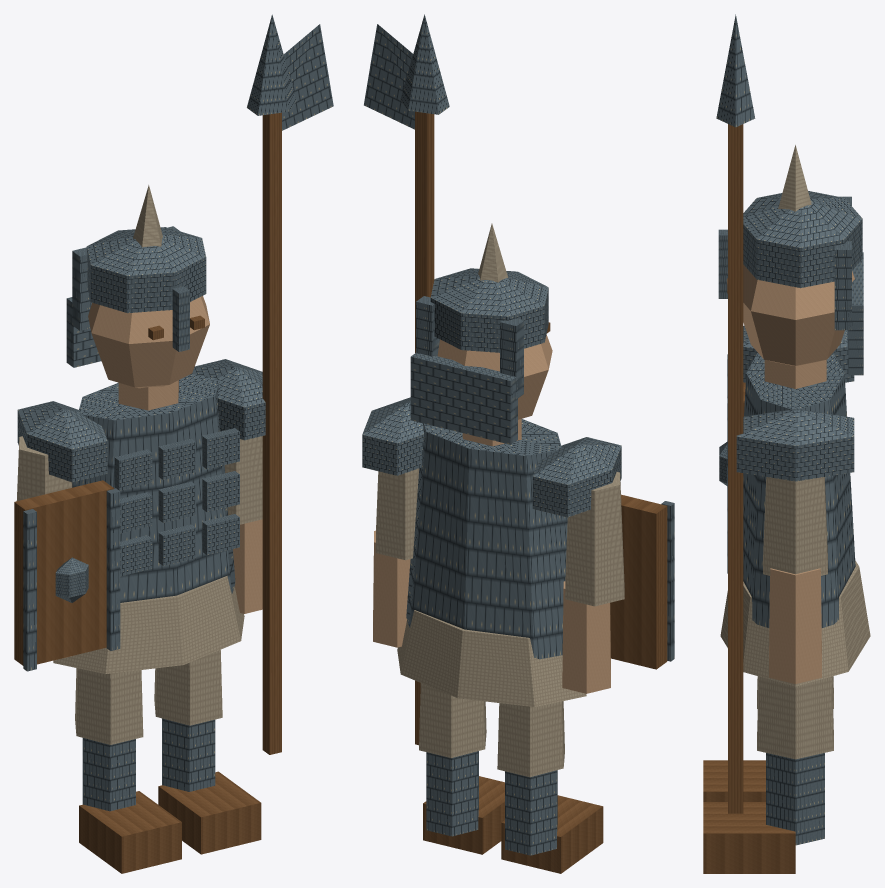
Rendered from unit-HALBERD-lod0.glb.
The picture shows the model from 3 angles, left to right: view 1: azimuth 30°, elevation 25°; view 2: azimuth 150°, elevation 25°; view 3: azimuth 270°, elevation 25°; orthographic projection. The views are drawn at different scales.
Bounding box in the file's own units: 0.227 × 0.565 × 0.098.
Materials: 1 (1 with a texture image).
